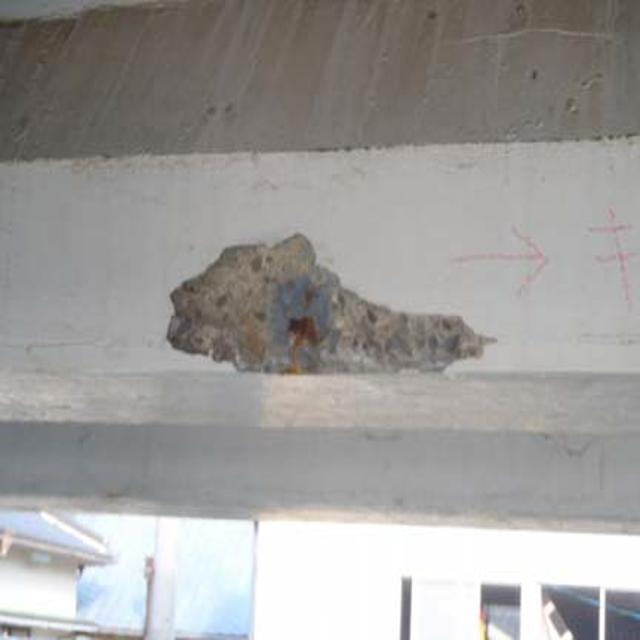spalling: (156, 208, 487, 402)
